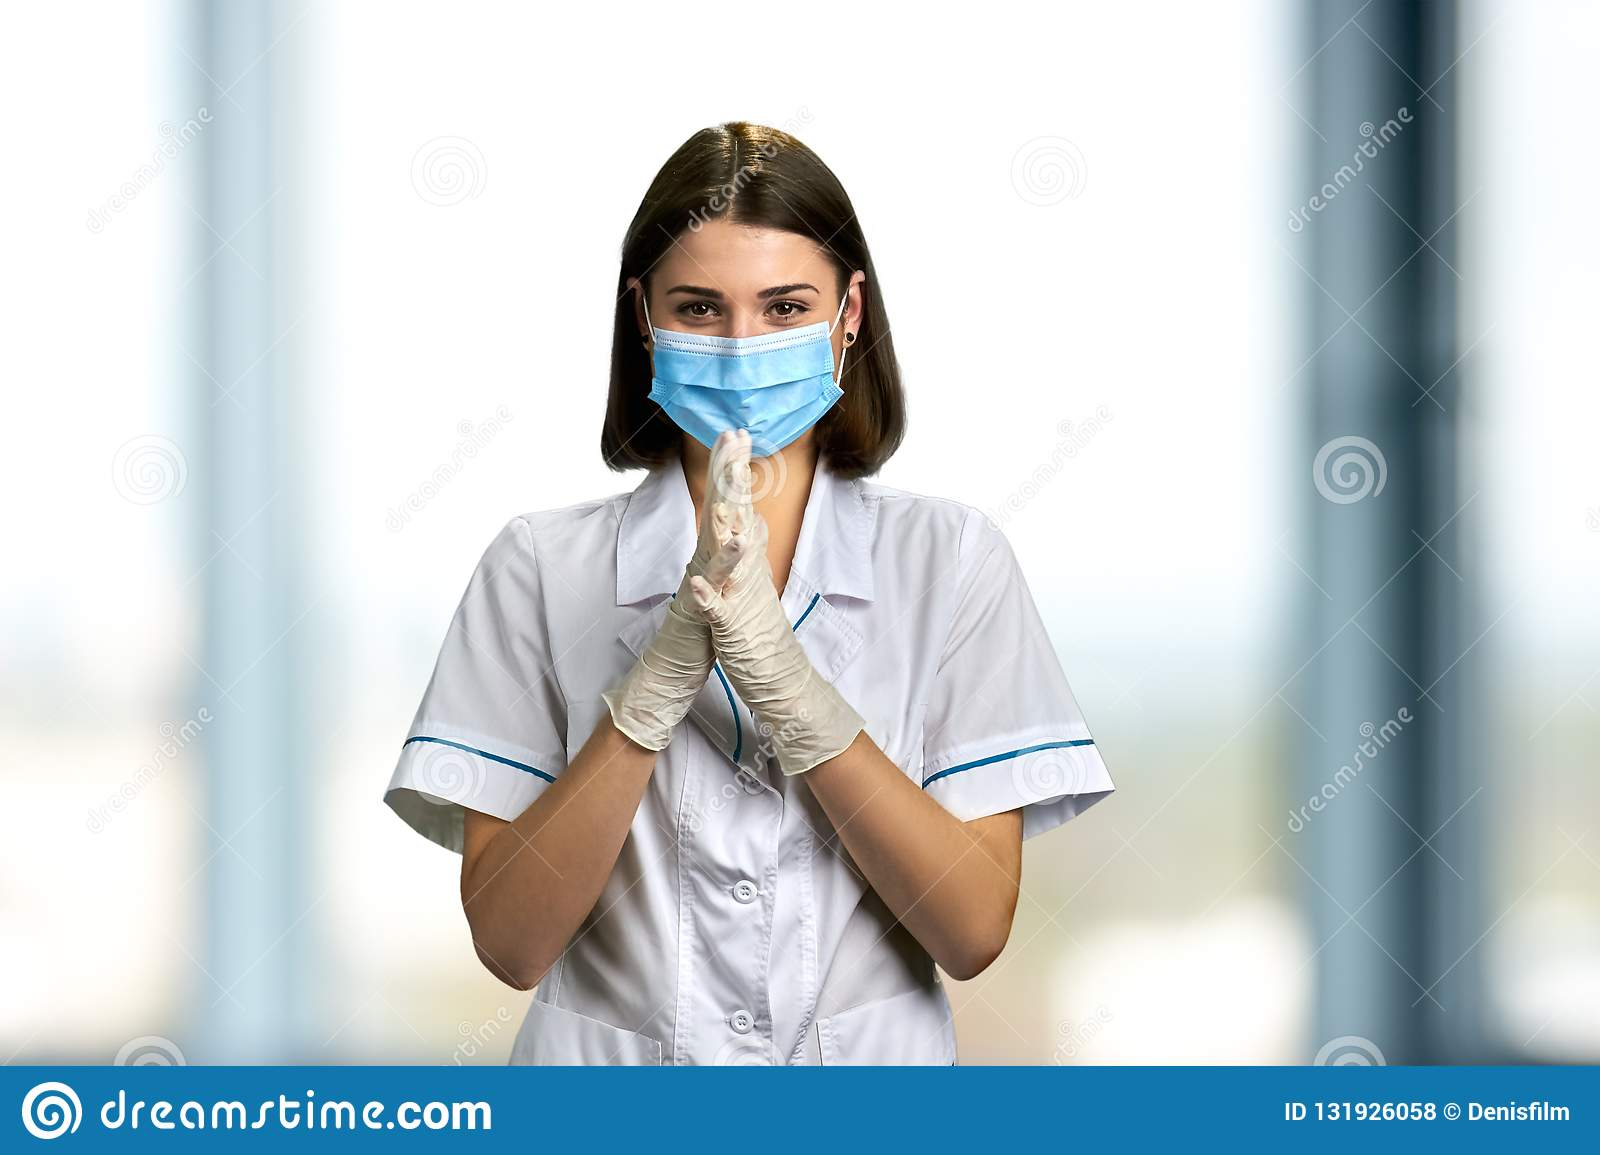mask: (632, 320, 843, 479)
